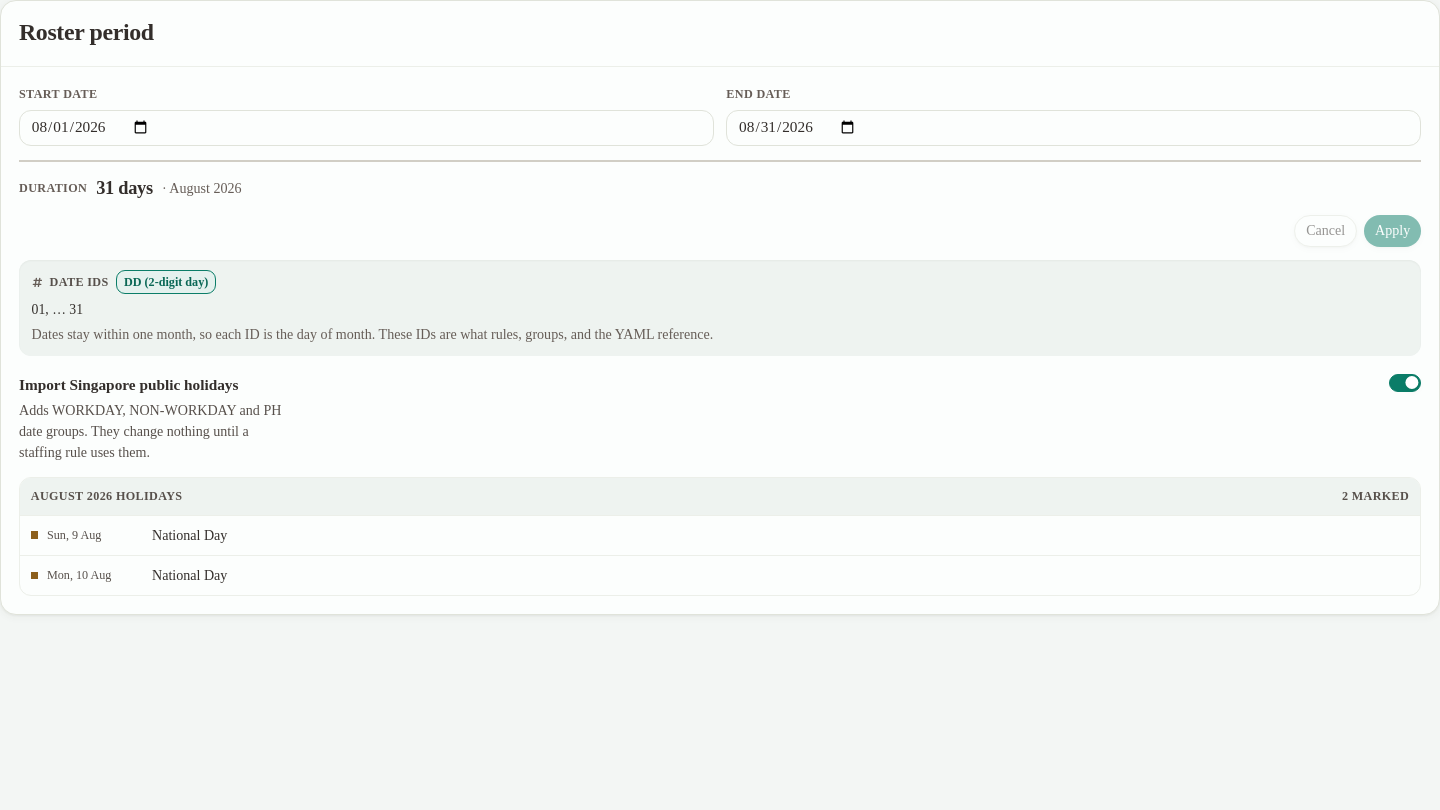
RosterPeriodCard — draft with Apply and Cancel (v1 parity) › Cancel restores the committed range and switch without committing
Expected: the button with test id "range-apply" is disabled, [1364,215,1421,247]
Expected: the button with test id "range-cancel" is disabled, [1294,215,1357,247]
Step 1. Type "2026-08-10" into the date field with test id "range-end" → (1074, 128), box [726,110,1421,146]
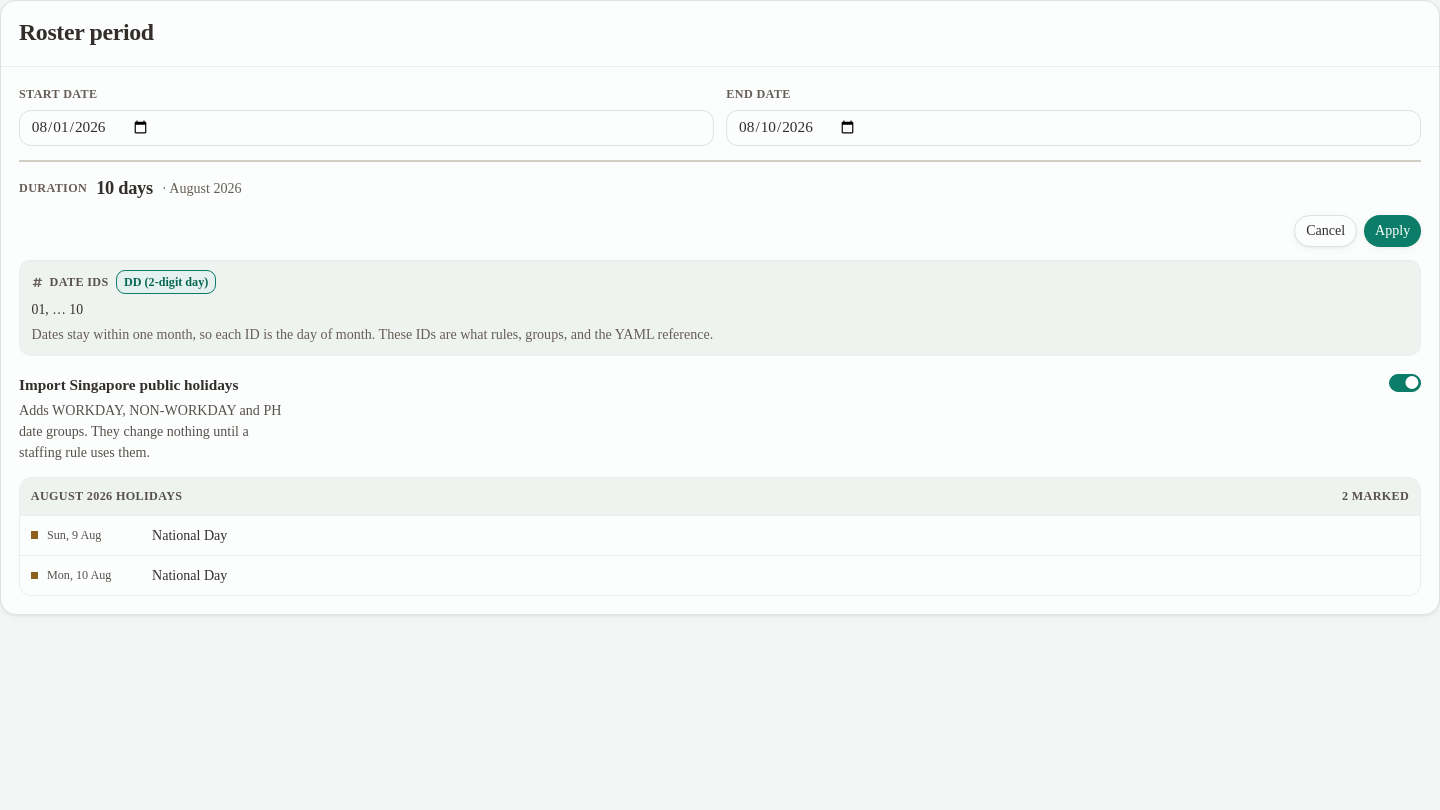
Step 2. Click the switch with test id "import-toggle" → (1405, 383), box [1389,374,1421,392]
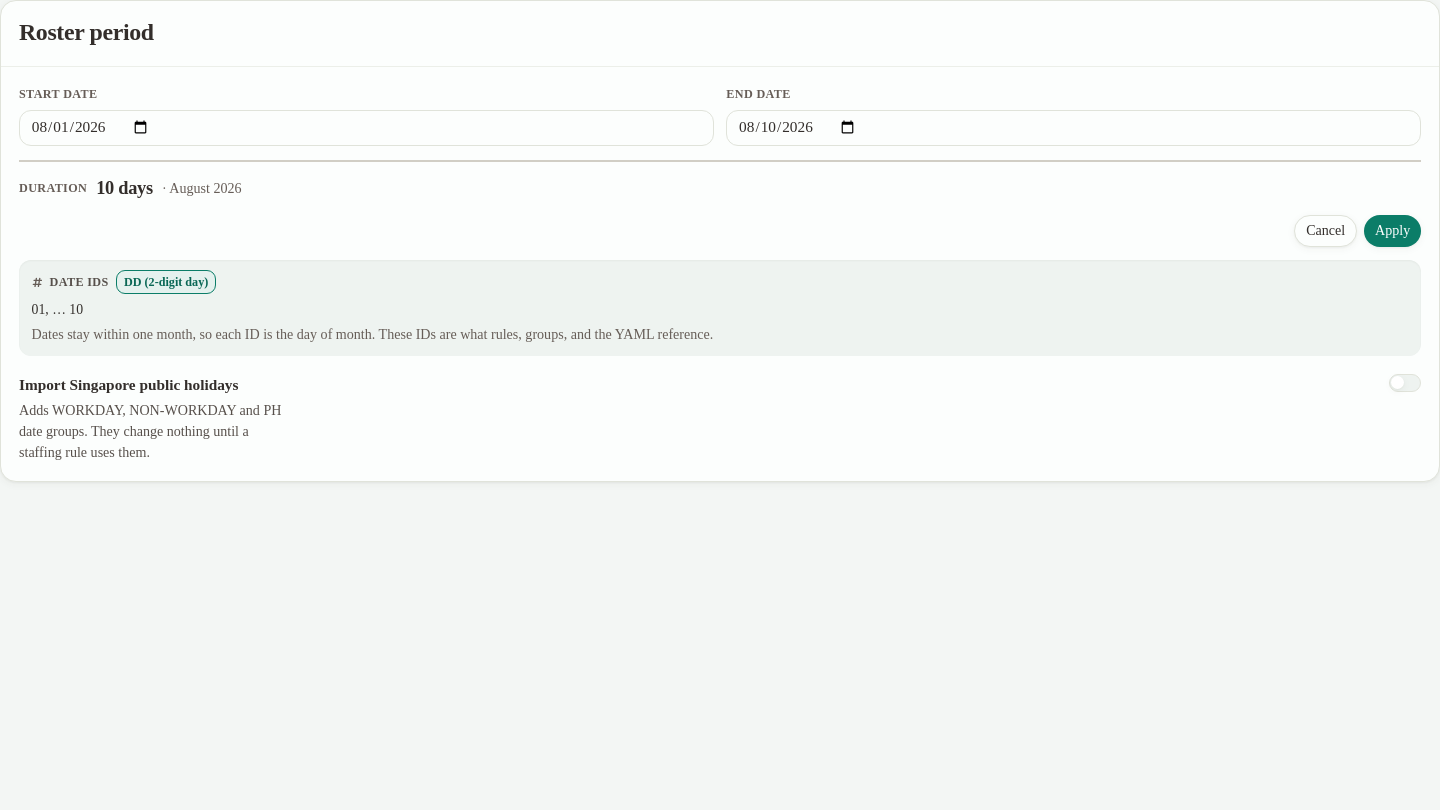
Result: the switch with test id "import-toggle" is not checked at [1389,374,1421,392]
Step 3. Click the button with test id "range-cancel" → (1326, 231), box [1294,215,1357,247]
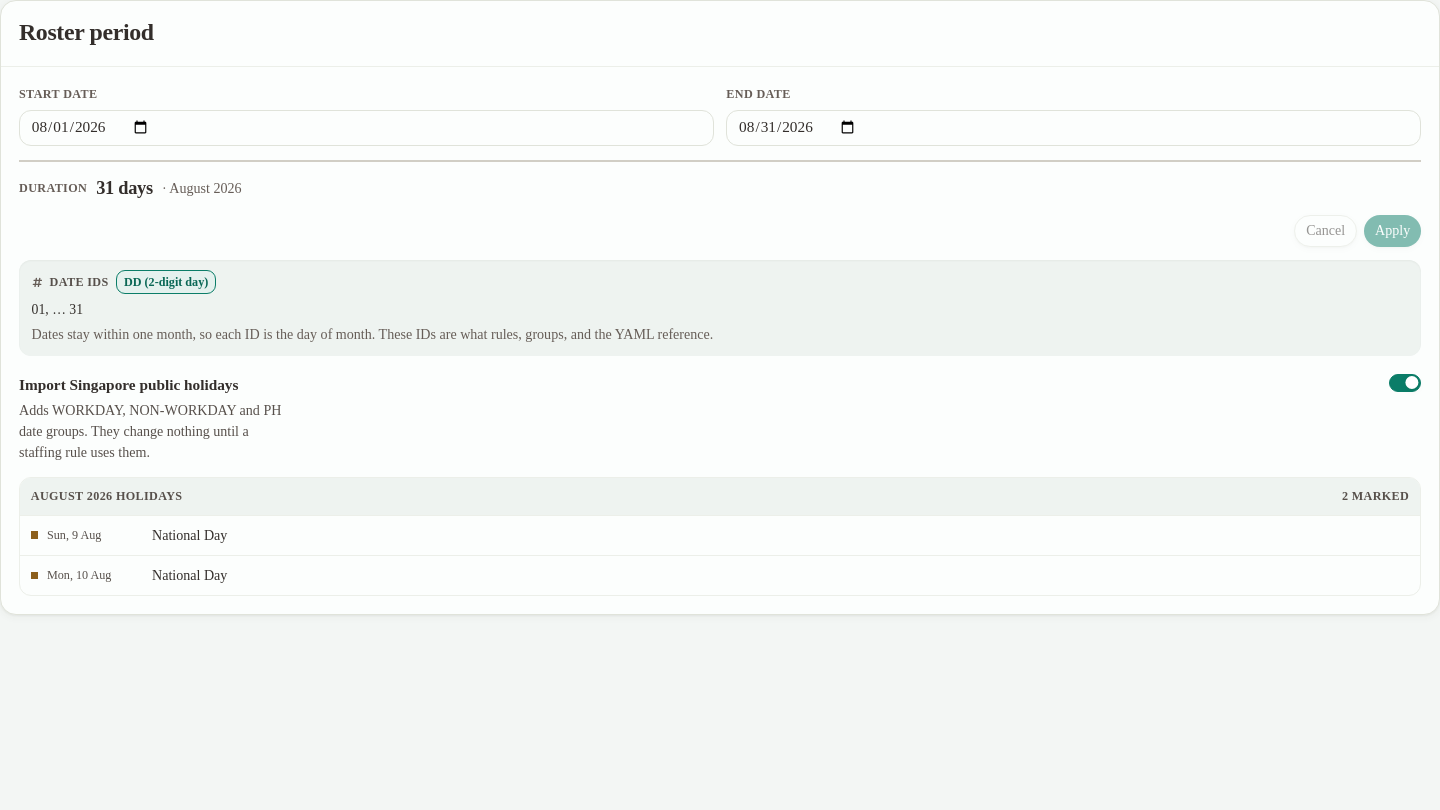
Result: the date field with test id "range-end" holds "2026-08-31" at [726,110,1421,146]
Result: the button with test id "range-apply" is disabled at [1364,215,1421,247]
